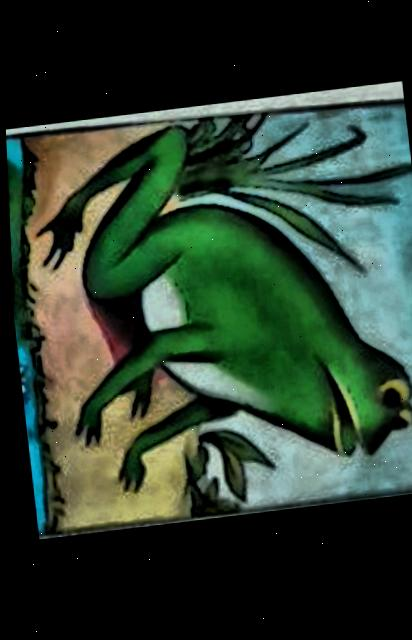La Rana: (5, 107, 412, 536)
